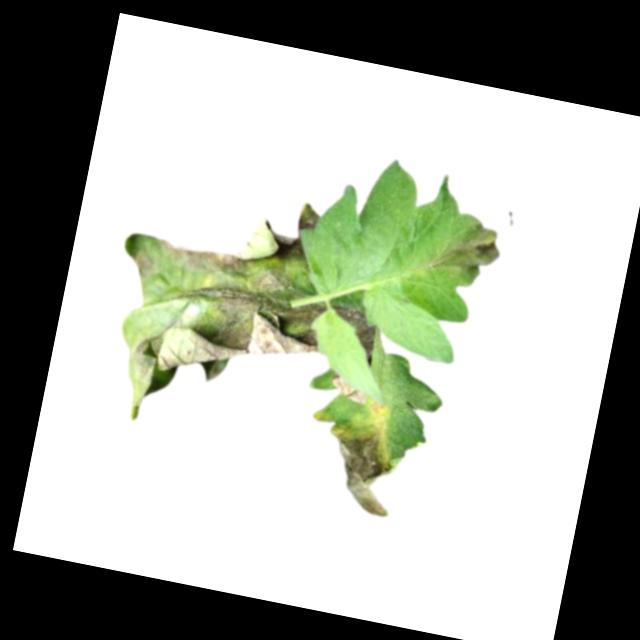Late_blight: (105, 171, 349, 411), (321, 417, 407, 520), (425, 209, 507, 283), (323, 301, 383, 367), (327, 371, 369, 405)
